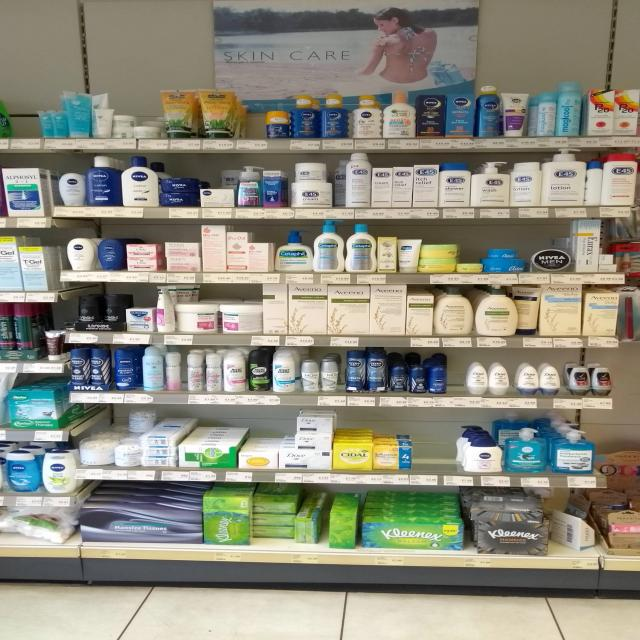empty_space: (408, 435, 458, 467), (15, 108, 37, 138), (245, 113, 265, 139), (449, 366, 463, 391)
